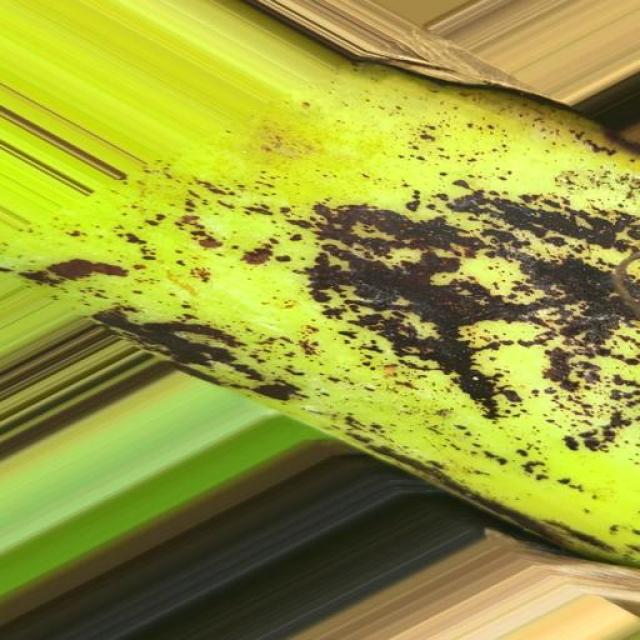Anthracnose: (11, 28, 640, 569)
